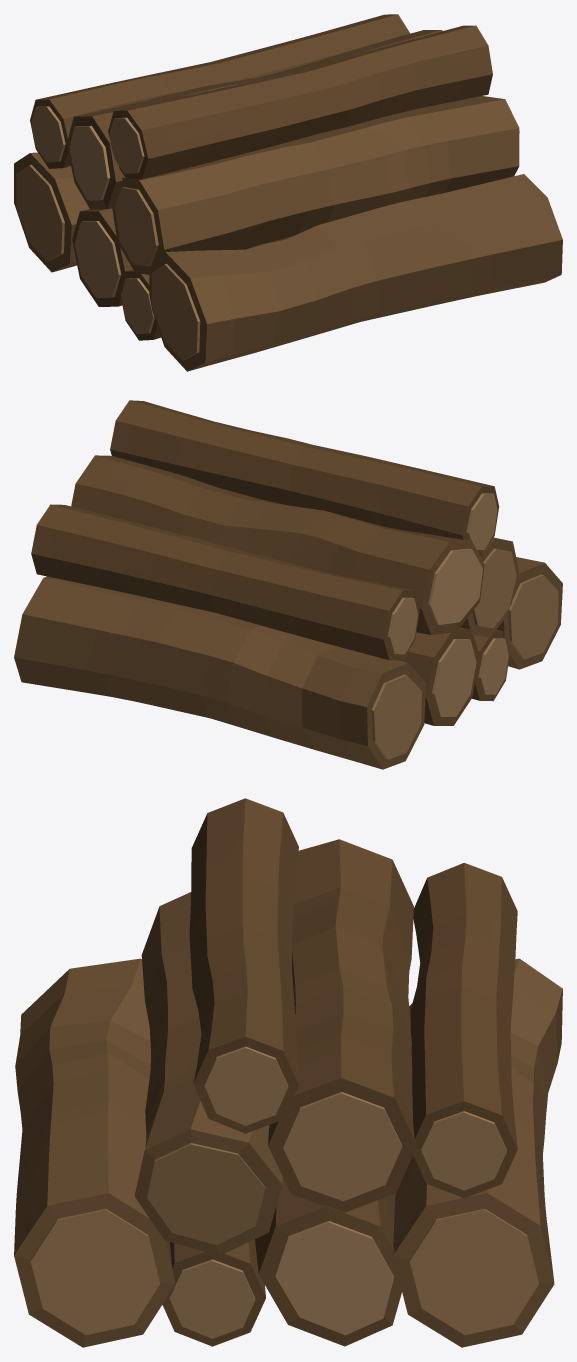
Rendered from Mesh_Props_Logs_01.FBX.
3 renders of one model, top to bottom at view 1: azimuth 30°, elevation 25°; view 2: azimuth 150°, elevation 25°; view 3: azimuth 270°, elevation 25°, orthographic. The views are drawn at different scales.
Visible parts, largest first — view 1: Mesh_Props_Logs_01; view 2: Mesh_Props_Logs_01; view 3: Mesh_Props_Logs_01.
Boxes of the visible parts, <box> form: Mesh_Props_Logs_01: <box>14,14,562,371</box>; Mesh_Props_Logs_01: <box>14,400,562,769</box>; Mesh_Props_Logs_01: <box>14,798,562,1347</box>.
Size of the model in its own units: 50.01 by 28.23 by 45.31.
